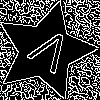V: (20, 26, 76, 83)
